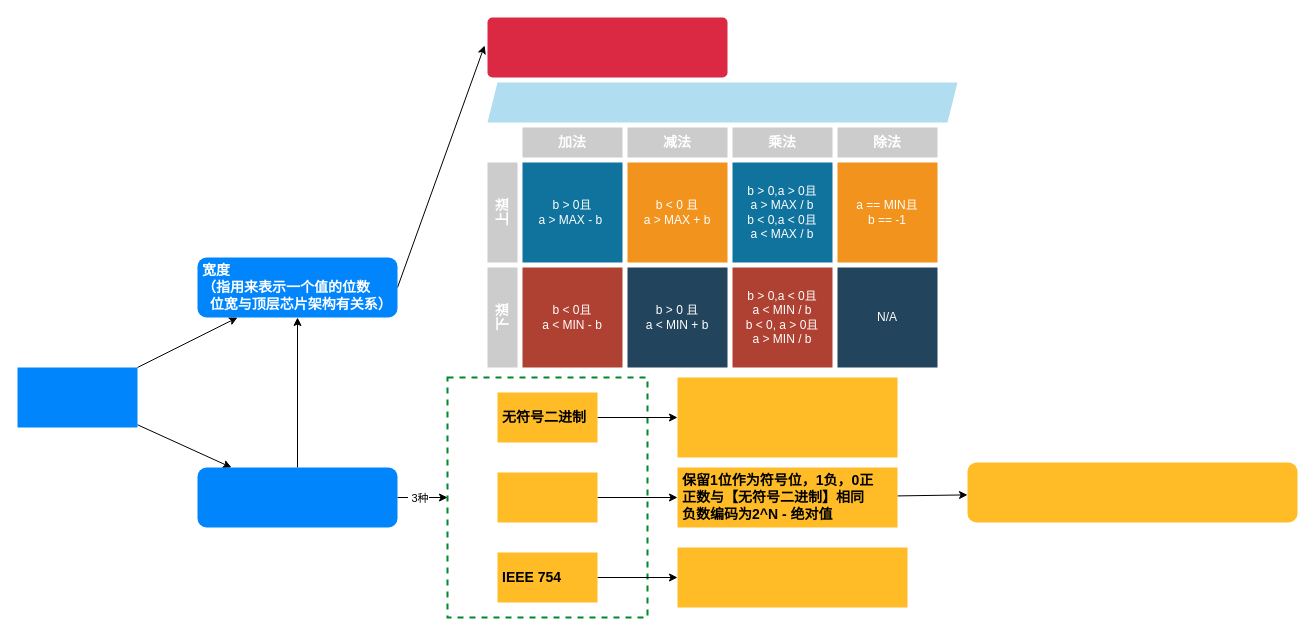
This 1314x635 diagram has some shape labels left out. The box of each missing label's shape, as (x1, y1, x2, y2) in pixels:
64位->符号位、指数位(11)、尾数位: (677, 547, 907, 607)
上溢、下溢 （运算的结果不能用给定位数表示）: (487, 17, 727, 77)
二进制补码: (497, 472, 597, 522)
数值类型: (17, 367, 137, 427)
检查a，b在[MIN, MAX]范围内发生溢出，MIN = -MAX - 1: (487, 82, 957, 122)
每个位表示值的一部分 只能表示整数 一个N位无符号整数可以表示 0～2^N - 1之间的值: (677, 377, 897, 457)
比如4位带符号编码： -8编码为2^4-8=8 8编码为1000 则-8编码为1000 -3编码为2^4-3=13 13编码为1101 则-3编码为1101: (967, 462, 1297, 522)
编码: (197, 467, 397, 527)
